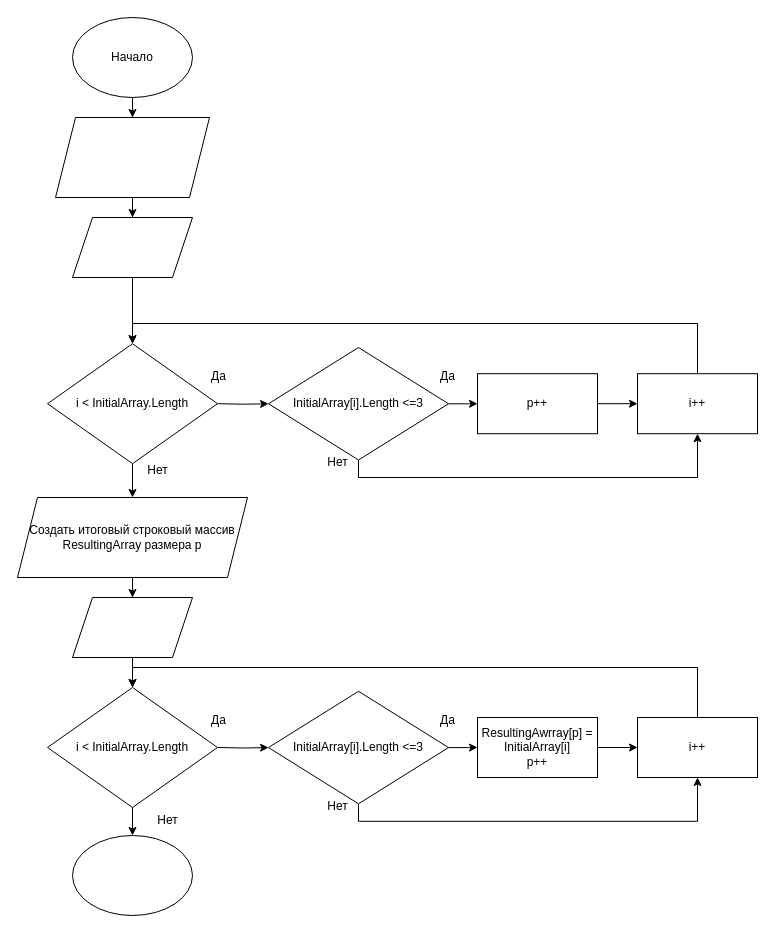
This 775x933 diagram has some shape labels left out. Here are the shapes that lost their labels. From the top down, the centre of each, then its label:
pixel 132 157: Создать исходный строковый массив InitialArray
pixel 132 247: int i = 0 int p = 0
pixel 132 627: i = 0 p = 0
pixel 132 875: Конец
